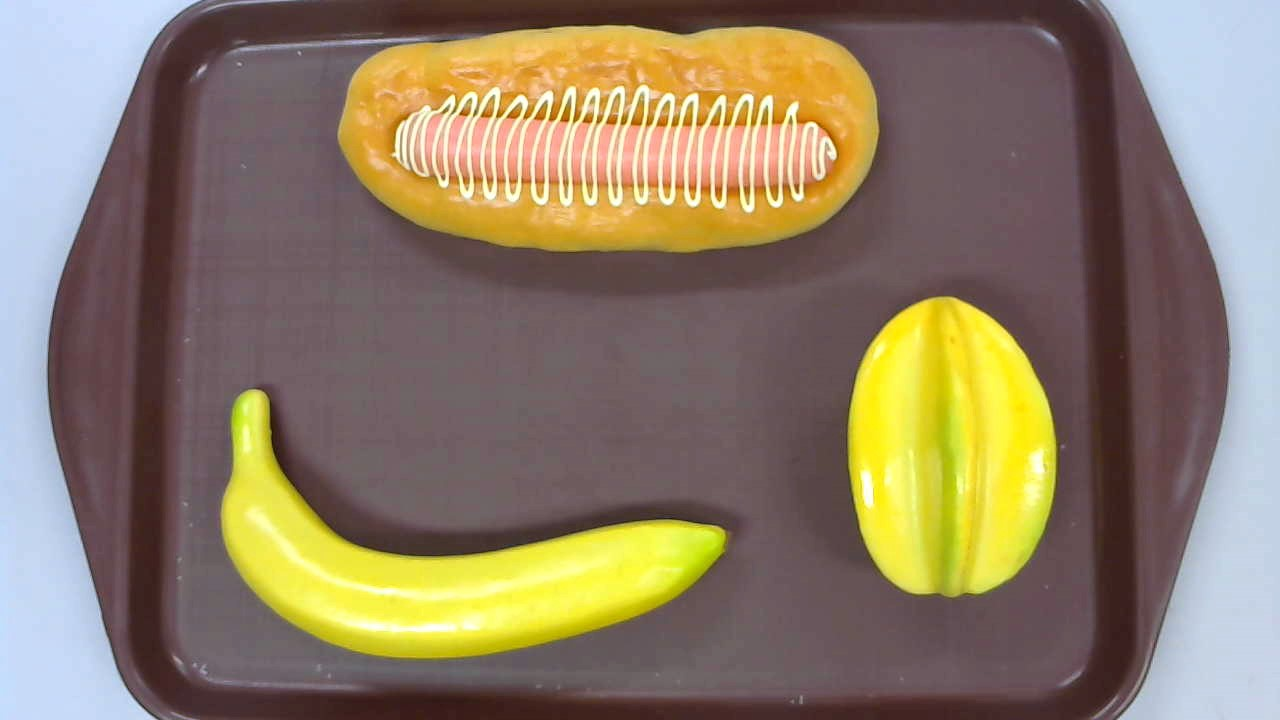banana: (221, 389, 735, 660)
hot dog: (335, 26, 879, 255)
star fruit: (846, 294, 1057, 600)
